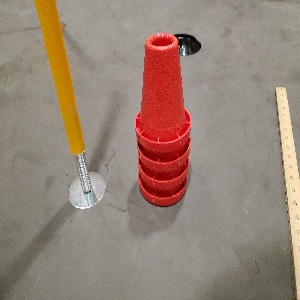Red_4: (134, 32, 190, 207)
